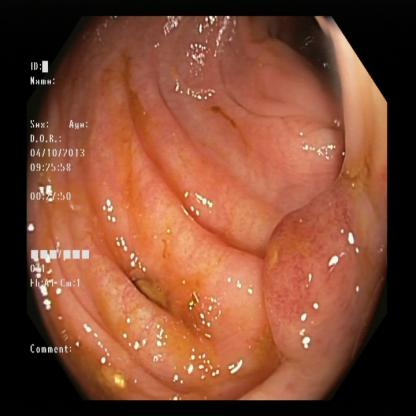Labels: (26, 58, 90, 358)
Polyps: (257, 210, 362, 354)
